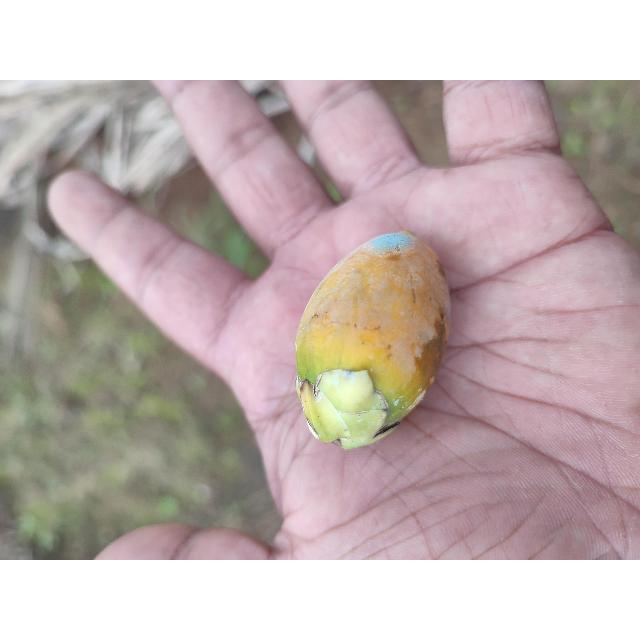good: (293, 232, 450, 453)
